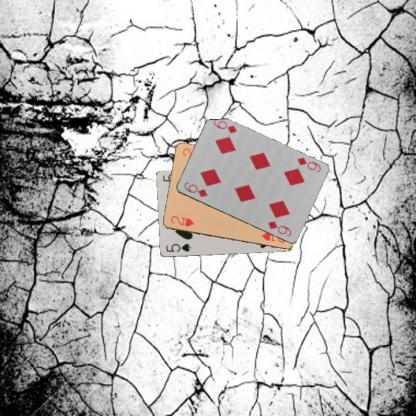2h: (168, 213, 195, 228)
5s: (163, 242, 192, 254)
6d: (294, 155, 322, 173), (181, 180, 208, 198)
